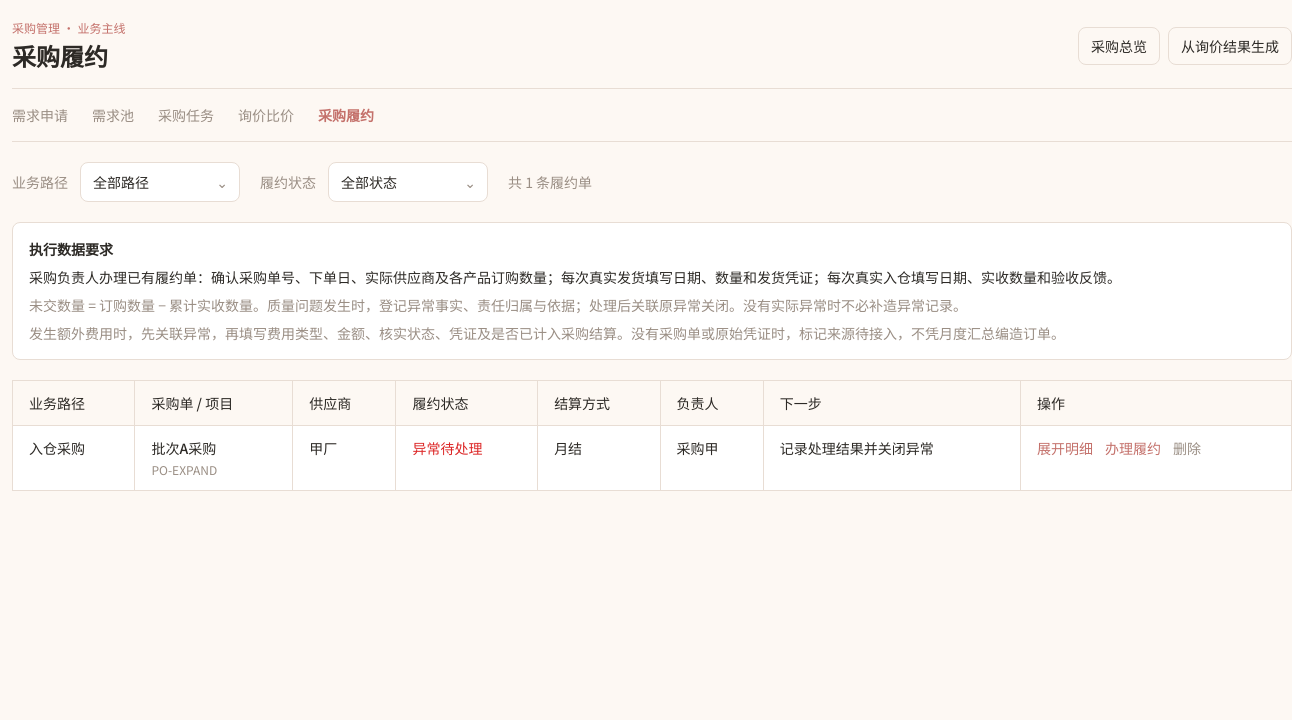
Test: expands a procurement summary into per-SKU quantities and exception facts
Click the button with aria-label "展开明细：批次A采购": (1065, 448) [1037,438,1093,458]
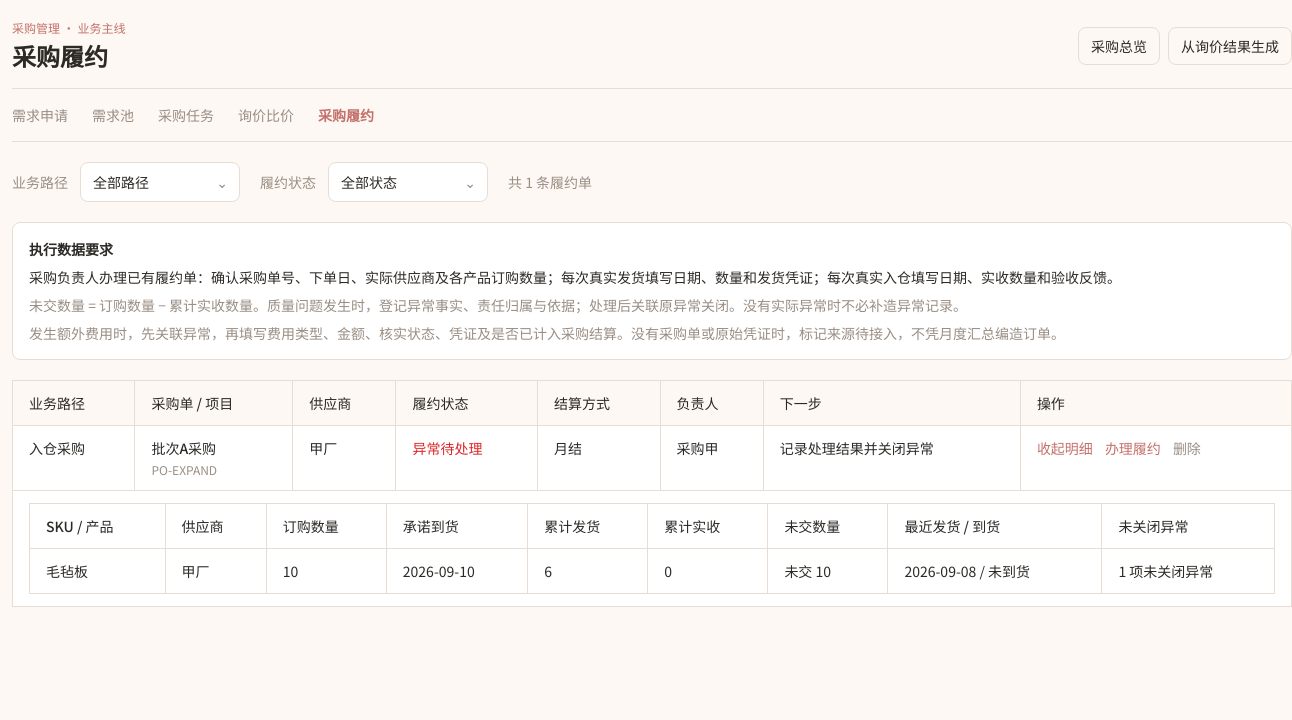
Now the table named "采购单 SKU 明细：批次A采购" is shown, box [29,503,1275,594]
Now the text "未交 10" is shown, box [768,548,888,594]
Now the text "2026-09-10" is shown, box [386,548,528,594]
